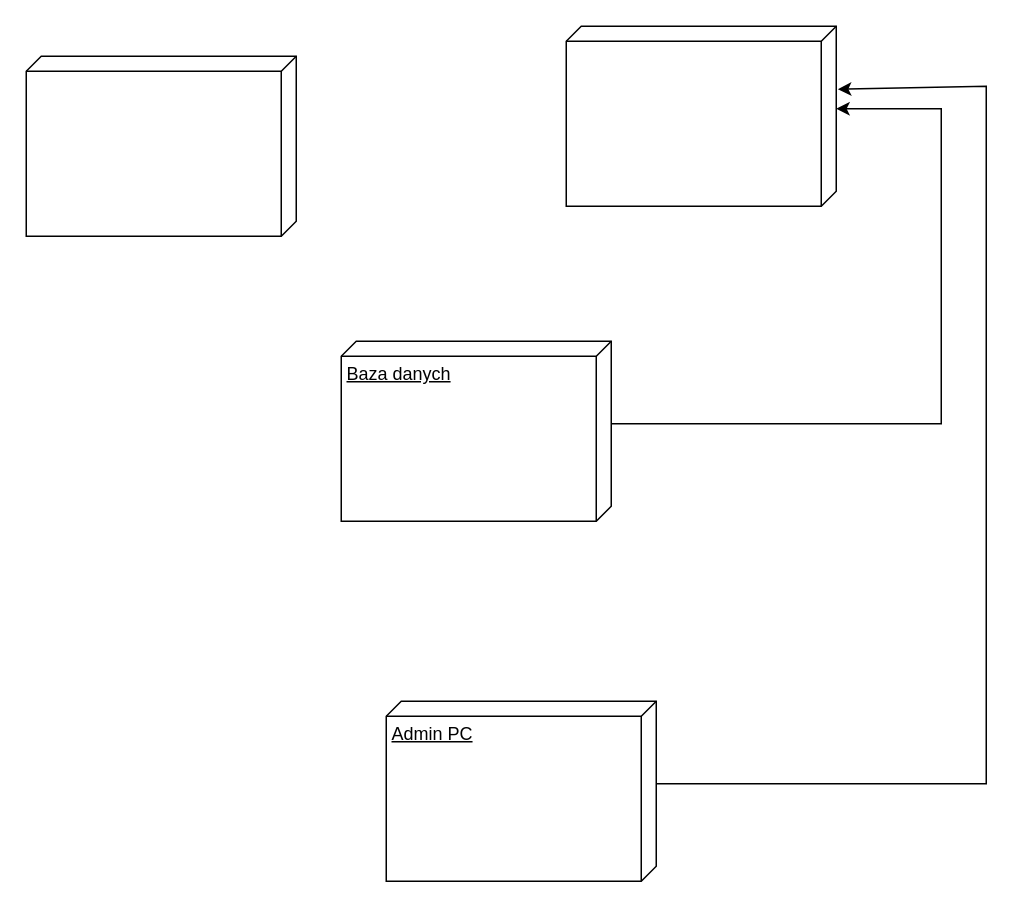
Image size: 1025x908. Some labels were removed from this diagram. The shapes that lost their labels are listed below. From the top down, each one's centre as x and y in pixels, then its label:
At pixel 700 115: "Serwer WWW".
At pixel 160 145: "Block".
